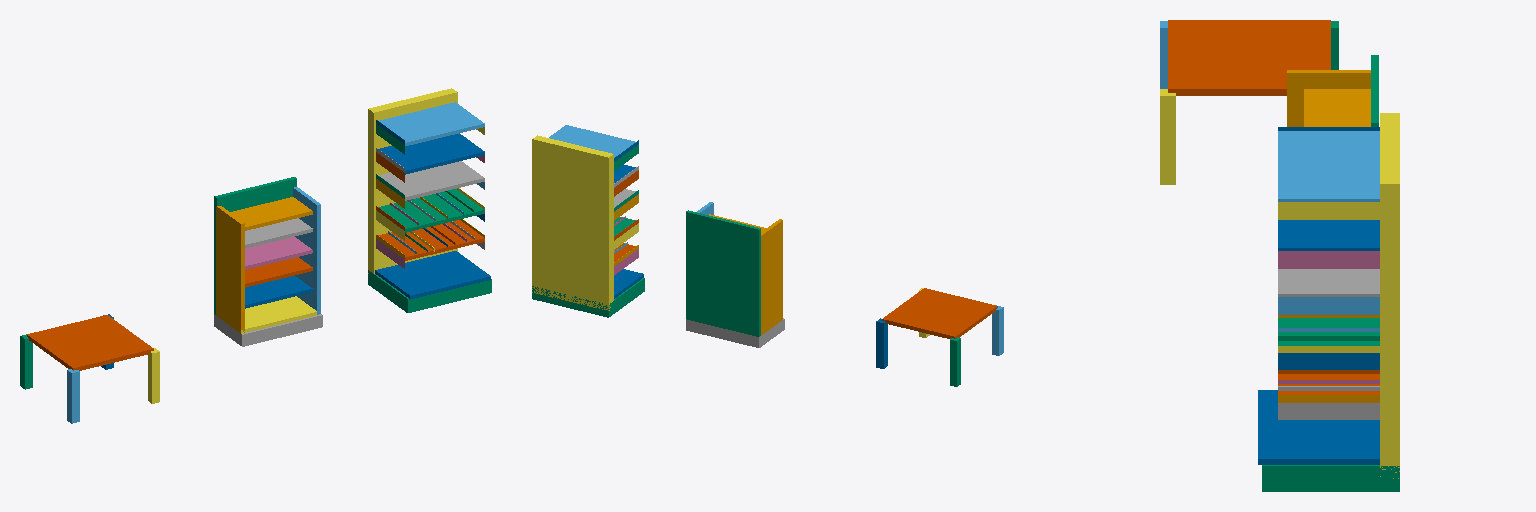
--- What the picture shows (computed from the rendered views, not written in the file) ---
Views: 3 orthographic renders of the robot side by side, from view 1: azimuth 30°, elevation 25°; view 2: azimuth 150°, elevation 25°; view 3: azimuth 270°, elevation 25°.
Model dm_shelves with 86 links and 85 joints (85 fixed), rooted at room_link, posed every joint at zero.
Visible links, largest first — view 1: top, shelf_1_back, shelf_2_left_side, shelf_1_level_0_link, shelf_1_level_5_link, shelf_1_level_4_link, shelf_1_level_3_link, shelf_1_level_2_link, shelf_2_right_side, shelf_1_base, shelf_1_level_1_link, shelf_2_back (+10 smaller); view 2: shelf_1_back, shelf_2_back, top, shelf_2_left_side, shelf_1_level_5_link, shelf_1_base, shelf_2_base, right_back_leg, left_front_leg, right_front_leg; view 3: top, shelf_1_level_5_link, shelf_1_back, shelf_1_level_0_link, shelf_1_base, shelf_1_level_4_link, shelf_1_level_3_link, shelf_2_level_5_link, shelf_2_left_side, shelf_1_level_2_link, shelf_1_level_3_right_support_link, shelf_1_level_4_right_support_link (+9 smaller).
Link boxes in pixels (x1,y1,x2,y2): top: (27,315,153,370); shelf_1_back: (368,88,457,273); shelf_2_left_side: (216,206,244,333); shelf_1_level_0_link: (375,251,490,299); shelf_1_level_5_link: (379,102,484,145); shelf_1_level_4_link: (379,133,484,174); shelf_1_level_3_link: (378,161,484,200); shelf_1_level_2_link: (379,189,484,232); shelf_2_right_side: (293,187,320,314); shelf_1_base: (368,270,491,312); shelf_1_level_1_link: (378,220,484,260); shelf_2_back: (214,177,296,314); shelf_1_back: (532,135,613,310); shelf_2_back: (686,210,760,336); top: (882,288,997,338); shelf_2_left_side: (761,219,782,335); shelf_1_level_5_link: (549,125,635,157); shelf_1_base: (532,278,644,317); shelf_2_base: (686,318,784,347); right_back_leg: (876,318,887,368); left_front_leg: (992,305,1003,355); right_front_leg: (950,337,960,386); top: (1168,20,1330,95); shelf_1_level_5_link: (1278,131,1379,201); shelf_1_back: (1380,113,1399,478); shelf_1_level_0_link: (1258,390,1379,464); shelf_1_base: (1262,465,1399,491); shelf_1_level_4_link: (1278,220,1379,250); shelf_1_level_3_link: (1278,269,1379,296); shelf_2_level_5_link: (1304,89,1370,126); shelf_2_left_side: (1287,70,1370,126); shelf_1_level_2_link: (1278,318,1379,345); shelf_1_level_3_right_support_link: (1278,297,1379,314); shelf_1_level_4_right_support_link: (1278,251,1379,268).
Bounding box of the posed robot: 5.57 × 1.48 × 2.09 m (x, y, z).
Geometry: primitives only (box / cylinder / sphere), no mesh files.

The robot description file, URDF, robot "dm_shelves":
<?xml version="1.0" ?>
<!-- =================================================================================== -->
<!-- |    This document was autogenerated by xacro from dm_shelves.urdf.xacro          | -->
<!-- |    EDITING THIS FILE BY HAND IS NOT RECOMMENDED                                 | -->
<!-- =================================================================================== -->
<robot name="dm_shelves" xmlns:xacro="http://ros.org/wiki/xacro">
  <link name="room_link"/>
  <link name="shelf_1_footprint"/>
  <joint name="romm_shleve_1_joint" type="fixed">
    <origin xyz="1 1 0.08515"/>
    <parent link="room_link"/>
    <child link="shelf_1_footprint"/>
  </joint>
  <link name="shelf_1_base">
    <visual>
      <geometry>
        <box size="1.04 0.85 0.173"/>
      </geometry>
    </visual>
    <collision>
      <geometry>
        <box size="1.04 0.85 0.173"/>
      </geometry>
    </collision>
  </link>
  <joint name="foot_base_joint" type="fixed">
    <iorigin xyz="0 0 0"/>
    <parent link="shelf_1_footprint"/>
    <child link="shelf_1_base"/>
  </joint>
  <link name="shelf_1_back">
    <visual>
      <geometry>
        <box size="1.04 0.12 2"/>
      </geometry>
    </visual>
    <collision>
      <geometry>
        <box size="1.04 0.12 2"/>
      </geometry>
    </collision>
  </link>
  <joint name="foot_back_joint" type="fixed">
    <origin xyz="0 0.365 1"/>
    <parent link="shelf_1_footprint"/>
    <child link="shelf_1_back"/>
  </joint>
  <link name="shelf_1_level_0_link">
    <visual>
      <geometry>
        <box size="1 0.78 0.043"/>
      </geometry>
    </visual>
    <collision>
      <geometry>
        <box size="1 0.78 0.043"/>
      </geometry>
    </collision>
  </link>
  <joint name="shelf_1_level_0_joint" type="fixed">
    <origin xyz="0 -0.06 0.10665"/>
    <parent link="shelf_1_footprint"/>
    <child link="shelf_1_level_0_link"/>
  </joint>
  <link name="shelf_1_level_1_link">
    <visual>
      <geometry>
        <box size="0.988 0.65 0.043"/>
      </geometry>
    </visual>
    <collision>
      <geometry>
        <box size="0.988 0.65 0.043"/>
      </geometry>
    </collision>
  </link>
  <link name="shelf_1_level_1_left_support_link">
    <visual>
      <geometry>
        <box size="0.004 0.65 0.12"/>
      </geometry>
    </visual>
    <collision>
      <geometry>
        <box size="0.004 0.65 0.12"/>
      </geometry>
    </collision>
  </link>
  <link name="shelf_1_level_1_right_support_link">
    <visual>
      <geometry>
        <box size="0.004 0.65 0.12"/>
      </geometry>
    </visual>
    <collision>
      <geometry>
        <box size="0.004 0.65 0.12"/>
      </geometry>
    </collision>
  </link>
  <joint name="shelf_1_level_1_joint" type="fixed">
    <origin xyz="0 0 0.50965"/>
    <parent link="shelf_1_footprint"/>
    <child link="shelf_1_level_1_link"/>
  </joint>
  <joint name="shelf_1_level_1_right_support_joint" type="fixed">
    <origin xyz="0.494 0 -0.06"/>
    <parent link="shelf_1_level_1_link"/>
    <child link="shelf_1_level_1_right_support_link"/>
  </joint>
  <joint name="shelf_1_level_1_left_support_joint" type="fixed">
    <origin xyz="-0.494 0 -0.06"/>
    <parent link="shelf_1_level_1_link"/>
    <child link="shelf_1_level_1_left_support_link"/>
  </joint>
  <link name="shelf_1_level_1_divider_1_link">
    <visual>
      <geometry>
        <box size="0.004 0.65 0.05"/>
      </geometry>
    </visual>
    <collision>
      <geometry>
        <box size="0.004 0.65 0.05"/>
      </geometry>
    </collision>
  </link>
  <joint name="shelf_1_level_1_divider_1_joint" type="fixed">
    <origin xyz="-0.495 0 0.024"/>
    <parent link="shelf_1_level_1_link"/>
    <child link="shelf_1_level_1_divider_1_link"/>
  </joint>
  <link name="shelf_1_level_1_divider_2_link">
    <visual>
      <geometry>
        <box size="0.004 0.65 0.05"/>
      </geometry>
    </visual>
    <collision>
      <geometry>
        <box size="0.004 0.65 0.05"/>
      </geometry>
    </collision>
  </link>
  <joint name="shelf_1_level_1_divider_2_joint" type="fixed">
    <origin xyz="-0.345 0 0.024"/>
    <parent link="shelf_1_level_1_link"/>
    <child link="shelf_1_level_1_divider_2_link"/>
  </joint>
  <link name="shelf_1_level_1_divider_3_link">
    <visual>
      <geometry>
        <box size="0.004 0.65 0.05"/>
      </geometry>
    </visual>
    <collision>
      <geometry>
        <box size="0.004 0.65 0.05"/>
      </geometry>
    </collision>
  </link>
  <joint name="shelf_1_level_1_divider_3_joint" type="fixed">
    <origin xyz="-0.212 0 0.024"/>
    <parent link="shelf_1_level_1_link"/>
    <child link="shelf_1_level_1_divider_3_link"/>
  </joint>
  <link name="shelf_1_level_1_divider_4_link">
    <visual>
      <geometry>
        <box size="0.004 0.65 0.05"/>
      </geometry>
    </visual>
    <collision>
      <geometry>
        <box size="0.004 0.65 0.05"/>
      </geometry>
    </collision>
  </link>
  <joint name="shelf_1_level_1_divider_4_joint" type="fixed">
    <origin xyz="-0.13 0 0.024"/>
    <parent link="shelf_1_level_1_link"/>
    <child link="shelf_1_level_1_divider_4_link"/>
  </joint>
  <link name="shelf_1_level_1_divider_5_link">
    <visual>
      <geometry>
        <box size="0.004 0.65 0.05"/>
      </geometry>
    </visual>
    <collision>
      <geometry>
        <box size="0.004 0.65 0.05"/>
      </geometry>
    </collision>
  </link>
  <joint name="shelf_1_level_1_divider_5_joint" type="fixed">
    <origin xyz="0.037 0 0.024"/>
    <parent link="shelf_1_level_1_link"/>
    <child link="shelf_1_level_1_divider_5_link"/>
  </joint>
  <link name="shelf_1_level_1_divider_6_link">
    <visual>
      <geometry>
        <box size="0.004 0.65 0.05"/>
      </geometry>
    </visual>
    <collision>
      <geometry>
        <box size="0.004 0.65 0.05"/>
      </geometry>
    </collision>
  </link>
  <joint name="shelf_1_level_1_divider_6_joint" type="fixed">
    <origin xyz="0.132 0 0.024"/>
    <parent link="shelf_1_level_1_link"/>
    <child link="shelf_1_level_1_divider_6_link"/>
  </joint>
  <link name="shelf_1_level_1_divider_7_link">
    <visual>
      <geometry>
        <box size="0.004 0.65 0.05"/>
      </geometry>
    </visual>
    <collision>
      <geometry>
        <box size="0.004 0.65 0.05"/>
      </geometry>
    </collision>
  </link>
  <joint name="shelf_1_level_1_divider_7_joint" type="fixed">
    <origin xyz="0.28 0 0.024"/>
    <parent link="shelf_1_level_1_link"/>
    <child link="shelf_1_level_1_divider_7_link"/>
  </joint>
  <link name="shelf_1_level_1_divider_8_link">
    <visual>
      <geometry>
        <box size="0.004 0.65 0.05"/>
      </geometry>
    </visual>
    <collision>
      <geometry>
        <box size="0.004 0.65 0.05"/>
      </geometry>
    </collision>
  </link>
  <joint name="shelf_1_level_1_divider_8_joint" type="fixed">
    <origin xyz="0.375 0 0.024"/>
    <parent link="shelf_1_level_1_link"/>
    <child link="shelf_1_level_1_divider_8_link"/>
  </joint>
  <link name="shelf_1_level_1_divider_9_link">
    <visual>
      <geometry>
        <box size="0.004 0.65 0.05"/>
      </geometry>
    </visual>
    <collision>
      <geometry>
        <box size="0.004 0.65 0.05"/>
      </geometry>
    </collision>
  </link>
  <joint name="shelf_1_level_1_divider_9_joint" type="fixed">
    <origin xyz="0.5 0 0.024"/>
    <parent link="shelf_1_level_1_link"/>
    <child link="shelf_1_level_1_divider_9_link"/>
  </joint>
  <link name="shelf_1_level_1_divider_10_link">
    <visual>
      <geometry>
        <box size="0.004 0.65 0.05"/>
      </geometry>
    </visual>
    <collision>
      <geometry>
        <box size="0.004 0.65 0.05"/>
      </geometry>
    </collision>
  </link>
  <joint name="shelf_1_level_1_divider_10_joint" type="fixed">
    <origin xyz="0.5 0 0.024"/>
    <parent link="shelf_1_level_1_link"/>
    <child link="shelf_1_level_1_divider_10_link"/>
  </joint>
  <link name="shelf_1_level_2_link">
    <visual>
      <geometry>
        <box size="0.988 0.65 0.043"/>
      </geometry>
    </visual>
    <collision>
      <geometry>
        <box size="0.988 0.65 0.043"/>
      </geometry>
    </collision>
  </link>
  <link name="shelf_1_level_2_left_support_link">
    <visual>
      <geometry>
        <box size="0.004 0.65 0.12"/>
      </geometry>
    </visual>
    <collision>
      <geometry>
        <box size="0.004 0.65 0.12"/>
      </geometry>
    </collision>
  </link>
  <link name="shelf_1_level_2_right_support_link">
    <visual>
      <geometry>
        <box size="0.004 0.65 0.12"/>
      </geometry>
    </visual>
    <collision>
      <geometry>
        <box size="0.004 0.65 0.12"/>
      </geometry>
    </collision>
  </link>
  <joint name="shelf_1_level_2_joint" type="fixed">
    <origin xyz="0 0 0.84465"/>
    <parent link="shelf_1_footprint"/>
    <child link="shelf_1_level_2_link"/>
  </joint>
  <joint name="shelf_1_level_2_right_support_joint" type="fixed">
    <origin xyz="0.494 0 -0.06"/>
    <parent link="shelf_1_level_2_link"/>
    <child link="shelf_1_level_2_right_support_link"/>
  </joint>
  <joint name="shelf_1_level_2_left_support_joint" type="fixed">
    <origin xyz="-0.494 0 -0.06"/>
    <parent link="shelf_1_level_2_link"/>
    <child link="shelf_1_level_2_left_support_link"/>
  </joint>
  <link name="shelf_1_level_2_divider_1_link">
    <visual>
      <geometry>
        <box size="0.004 0.65 0.05"/>
      </geometry>
    </visual>
    <collision>
      <geometry>
        <box size="0.004 0.65 0.05"/>
      </geometry>
    </collision>
  </link>
  <joint name="shelf_1_level_2_divider_1_joint" type="fixed">
    <origin xyz="-0.495 0 0.024"/>
    <parent link="shelf_1_level_2_link"/>
    <child link="shelf_1_level_2_divider_1_link"/>
  </joint>
  <link name="shelf_1_level_2_divider_2_link">
    <visual>
      <geometry>
        <box size="0.004 0.65 0.05"/>
      </geometry>
    </visual>
    <collision>
      <geometry>
        <box size="0.004 0.65 0.05"/>
      </geometry>
    </collision>
  </link>
  <joint name="shelf_1_level_2_divider_2_joint" type="fixed">
    <origin xyz="-0.318 0 0.024"/>
    <parent link="shelf_1_level_2_link"/>
    <child link="shelf_1_level_2_divider_2_link"/>
  </joint>
  <link name="shelf_1_level_2_divider_3_link">
    <visual>
      <geometry>
        <box size="0.004 0.65 0.05"/>
      </geometry>
    </visual>
    <collision>
      <geometry>
        <box size="0.004 0.65 0.05"/>
      </geometry>
    </collision>
  </link>
  <joint name="shelf_1_level_2_divider_3_joint" type="fixed">
    <origin xyz="-0.11 0 0.024"/>
    <parent link="shelf_1_level_2_link"/>
    <child link="shelf_1_level_2_divider_3_link"/>
  </joint>
  <link name="shelf_1_level_2_divider_4_link">
    <visual>
      <geometry>
        <box size="0.004 0.65 0.05"/>
      </geometry>
    </visual>
    <collision>
      <geometry>
        <box size="0.004 0.65 0.05"/>
      </geometry>
    </collision>
  </link>
  <joint name="shelf_1_level_2_divider_4_joint" type="fixed">
    <origin xyz="0.037 0 0.024"/>
    <parent link="shelf_1_level_2_link"/>
    <child link="shelf_1_level_2_divider_4_link"/>
  </joint>
  <link name="shelf_1_level_2_divider_5_link">
    <visual>
      <geometry>
        <box size="0.004 0.65 0.05"/>
      </geometry>
    </visual>
    <collision>
      <geometry>
        <box size="0.004 0.65 0.05"/>
      </geometry>
    </collision>
  </link>
  <joint name="shelf_1_level_2_divider_5_joint" type="fixed">
    <origin xyz="0.237 0 0.024"/>
    <parent link="shelf_1_level_2_link"/>
    <child link="shelf_1_level_2_divider_5_link"/>
  </joint>
  <link name="shelf_1_level_2_divider_6_link">
    <visual>
      <geometry>
        <box size="0.004 0.65 0.05"/>
      </geometry>
    </visual>
    <collision>
      <geometry>
        <box size="0.004 0.65 0.05"/>
      </geometry>
    </collision>
  </link>
  <joint name="shelf_1_level_2_divider_6_joint" type="fixed">
    <origin xyz="0.361 0 0.024"/>
    <parent link="shelf_1_level_2_link"/>
    <child link="shelf_1_level_2_divider_6_link"/>
  </joint>
  <link name="shelf_1_level_2_divider_7_link">
    <visual>
      <geometry>
        <box size="0.004 0.65 0.05"/>
      </geometry>
    </visual>
    <collision>
      <geometry>
        <box size="0.004 0.65 0.05"/>
      </geometry>
    </collision>
  </link>
  <joint name="shelf_1_level_2_divider_7_joint" type="fixed">
    <origin xyz="0.501 0 0.024"/>
    <parent link="shelf_1_level_2_link"/>
    <child link="shelf_1_level_2_divider_7_link"/>
  </joint>
  <link name="shelf_1_level_2_divider_8_link">
    <visual>
      <geometry>
        <box size="0.004 0.65 0.05"/>
      </geometry>
    </visual>
    <collision>
      <geometry>
        <box size="0.004 0.65 0.05"/>
      </geometry>
    </collision>
  </link>
  <joint name="shelf_1_level_2_divider_8_joint" type="fixed">
    <origin xyz="0.501 0 0.024"/>
    <parent link="shelf_1_level_2_link"/>
    <child link="shelf_1_level_2_divider_8_link"/>
  </joint>
  <link name="shelf_1_level_2_divider_9_link">
    <visual>
      <geometry>
        <box size="0.004 0.65 0.05"/>
      </geometry>
    </visual>
    <collision>
      <geometry>
        <box size="0.004 0.65 0.05"/>
      </geometry>
    </collision>
  </link>
  <joint name="shelf_1_level_2_divider_9_joint" type="fixed">
    <origin xyz="0.501 0 0.024"/>
    <parent link="shelf_1_level_2_link"/>
    <child link="shelf_1_level_2_divider_9_link"/>
  </joint>
  <link name="shelf_1_level_2_divider_10_link">
    <visual>
      <geometry>
        <box size="0.004 0.65 0.05"/>
      </geometry>
    </visual>
    <collision>
      <geometry>
        <box size="0.004 0.65 0.05"/>
      </geometry>
    </collision>
  </link>
  <joint name="shelf_1_level_2_divider_10_joint" type="fixed">
    <origin xyz="0.501 0 0.024"/>
    <parent link="shelf_1_level_2_link"/>
    <child link="shelf_1_level_2_divider_10_link"/>
  </joint>
  <link name="shelf_1_level_3_link">
    <visual>
      <geometry>
        <box size="0.988 0.65 0.043"/>
      </geometry>
    </visual>
    <collision>
      <geometry>
        <box size="0.988 0.65 0.043"/>
      </geometry>
    </collision>
  </link>
  <link name="shelf_1_level_3_left_support_link">
    <visual>
      <geometry>
        <box size="0.004 0.65 0.12"/>
      </geometry>
    </visual>
    <collision>
      <geometry>
        <box size="0.004 0.65 0.12"/>
      </geometry>
    </collision>
  </link>
  <link name="shelf_1_level_3_right_support_link">
    <visual>
      <geometry>
        <box size="0.004 0.65 0.12"/>
      </geometry>
    </visual>
    <collision>
      <geometry>
        <box size="0.004 0.65 0.12"/>
      </geometry>
    </collision>
  </link>
  <joint name="shelf_1_level_3_joint" type="fixed">
    <origin xyz="0 0 1.22265"/>
    <parent link="shelf_1_footprint"/>
    <child link="shelf_1_level_3_link"/>
  </joint>
  <joint name="shelf_1_level_3_right_support_joint" type="fixed">
    <origin xyz="0.494 0 -0.06"/>
    <parent link="shelf_1_level_3_link"/>
    <child link="shelf_1_level_3_right_support_link"/>
  </joint>
  <joint name="shelf_1_level_3_left_support_joint" type="fixed">
    <origin xyz="-0.494 0 -0.06"/>
    <parent link="shelf_1_level_3_link"/>
    <child link="shelf_1_level_3_left_support_link"/>
  </joint>
  <link name="shelf_1_level_3_divider_1_link">
    <visual>
      <geometry>
        <box size="0.004 0.65 0.05"/>
      </geometry>
    </visual>
    <collision>
      <geometry>
        <box size="0.004 0.65 0.05"/>
      </geometry>
    </collision>
  </link>
  <joint name="shelf_1_level_3_divider_1_joint" type="fixed">
    <origin xyz="-0.495 0 0.024"/>
    <parent link="shelf_1_level_3_link"/>
    <child link="shelf_1_level_3_divider_1_link"/>
  </joint>
  <link name="shelf_1_level_3_divider_2_link">
    <visual>
      <geometry>
        <box size="0.004 0.65 0.05"/>
      </geometry>
    </visual>
    <collision>
      <geometry>
        <box size="0.004 0.65 0.05"/>
      </geometry>
    </collision>
  </link>
  <joint name="shelf_1_level_3_divider_2_joint" type="fixed">
    <origin xyz="-0.495 0 0.024"/>
    <parent link="shelf_1_level_3_link"/>
    <child link="shelf_1_level_3_divider_2_link"/>
  </joint>
  <link name="shelf_1_level_3_divider_3_link">
    <visual>
      <geometry>
        <box size="0.004 0.65 0.05"/>
      </geometry>
    </visual>
    <collision>
      <geometry>
        <box size="0.004 0.65 0.05"/>
      </geometry>
    </collision>
  </link>
  <joint name="shelf_1_level_3_divider_3_joint" type="fixed">
    <origin xyz="-0.495 0 0.024"/>
    <parent link="shelf_1_level_3_link"/>
    <child link="shelf_1_level_3_divider_3_link"/>
  </joint>
  <link name="shelf_1_level_3_divider_4_link">
    <visual>
      <geometry>
        <box size="0.004 0.65 0.05"/>
      </geometry>
    </visual>
    <collision>
      <geometry>
        <box size="0.004 0.65 0.05"/>
      </geometry>
    </collision>
  </link>
  <joint name="shelf_1_level_3_divider_4_joint" type="fixed">
    <origin xyz="-0.495 0 0.024"/>
    <parent link="shelf_1_level_3_link"/>
    <child link="shelf_1_level_3_divider_4_link"/>
  </joint>
  <link name="shelf_1_level_3_divider_5_link">
    <visual>
      <geometry>
        <box size="0.004 0.65 0.05"/>
      </geometry>
    </visual>
    <collision>
      <geometry>
        <box size="0.004 0.65 0.05"/>
      </geometry>
    </collision>
  </link>
  <joint name="shelf_1_level_3_divider_5_joint" type="fixed">
    <origin xyz="-0.495 0 0.024"/>
    <parent link="shelf_1_level_3_link"/>
    <child link="shelf_1_level_3_divider_5_link"/>
  </joint>
  <link name="shelf_1_level_3_divider_6_link">
    <visual>
      <geometry>
        <box size="0.004 0.65 0.05"/>
      </geometry>
    </visual>
    <collision>
      <geometry>
        <box size="0.004 0.65 0.05"/>
      </geometry>
    </collision>
  </link>
  <joint name="shelf_1_level_3_divider_6_joint" type="fixed">
    <origin xyz="-0.495 0 0.024"/>
    <parent link="shelf_1_level_3_link"/>
    <child link="shelf_1_level_3_divider_6_link"/>
  </joint>
  <link name="shelf_1_level_3_divider_7_link">
    <visual>
      <geometry>
        <box size="0.004 0.65 0.05"/>
      </geometry>
    </visual>
    <collision>
      <geometry>
        <box size="0.004 0.65 0.05"/>
      </geometry>
    </collision>
  </link>
  <joint name="shelf_1_level_3_divider_7_joint" type="fixed">
    <origin xyz="-0.495 0 0.024"/>
    <parent link="shelf_1_level_3_link"/>
    <child link="shelf_1_level_3_divider_7_link"/>
  </joint>
  <link name="shelf_1_level_3_divider_8_link">
    <visual>
      <geometry>
        <box size="0.004 0.65 0.05"/>
      </geometry>
    </visual>
    <collision>
      <geometry>
        <box size="0.004 0.65 0.05"/>
      </geometry>
    </collision>
  </link>
  <joint name="shelf_1_level_3_divider_8_joint" type="fixed">
    <origin xyz="-0.495 0 0.024"/>
    <parent link="shelf_1_level_3_link"/>
    <child link="shelf_1_level_3_divider_8_link"/>
  </joint>
  <link name="shelf_1_level_3_divider_9_link">
    <visual>
      <geometry>
        <box size="0.004 0.65 0.05"/>
      </geometry>
    </visual>
    <collision>
      <geometry>
        <box size="0.004 0.65 0.05"/>
      </geometry>
    </collision>
  </link>
  <joint name="shelf_1_level_3_divider_9_joint" type="fixed">
    <origin xyz="-0.495 0 0.024"/>
    <parent link="shelf_1_level_3_link"/>
    <child link="shelf_1_level_3_divider_9_link"/>
  </joint>
  <link name="shelf_1_level_3_divider_10_link">
    <visual>
      <geometry>
        <box size="0.004 0.65 0.05"/>
      </geometry>
    </visual>
    <collision>
      <geometry>
        <box size="0.004 0.65 0.05"/>
      </geometry>
    </collision>
  </link>
  <joint name="shelf_1_level_3_divider_10_joint" type="fixed">
    <origin xyz="-0.495 0 0.024"/>
    <parent link="shelf_1_level_3_link"/>
    <child link="shelf_1_level_3_divider_10_link"/>
  </joint>
  <link name="shelf_1_level_4_link">
    <visual>
      <geometry>
        <box size="0.988 0.65 0.043"/>
      </geometry>
    </visual>
    <collision>
      <geometry>
        <box size="0.988 0.65 0.043"/>
      </geometry>
    </collision>
  </link>
  <link name="shelf_1_level_4_left_support_link">
    <visual>
      <geometry>
        <box size="0.004 0.65 0.12"/>
      </geometry>
    </visual>
    <collision>
      <geometry>
        <box size="0.004 0.65 0.12"/>
      </geometry>
    </collision>
  </link>
  <link name="shelf_1_level_4_right_support_link">
    <visual>
      <geometry>
        <box size="0.004 0.65 0.12"/>
      </geometry>
    </visual>
    <collision>
      <geometry>
        <box size="0.004 0.65 0.12"/>
      </geometry>
    </collision>
  </link>
  <joint name="shelf_1_level_4_joint" type="fixed">
    <origin xyz="0 0 1.53565"/>
    <parent link="shelf_1_footprint"/>
    <child link="shelf_1_level_4_link"/>
  </joint>
  <joint name="shelf_1_level_4_right_support_joint" type="fixed">
    <origin xyz="0.494 0 -0.06"/>
    <parent link="shelf_1_level_4_link"/>
    <child link="shelf_1_level_4_right_support_link"/>
  </joint>
  <joint name="shelf_1_level_4_left_support_joint" type="fixed">
    <origin xyz="-0.494 0 -0.06"/>
    <parent link="shelf_1_level_4_link"/>
    <child link="shelf_1_level_4_left_support_link"/>
  </joint>
  <link name="shelf_1_level_4_divider_1_link">
    <visual>
      <geometry>
        <box size="0.004 0.65 0.05"/>
      </geometry>
    </visual>
    <collision>
      <geometry>
        <box size="0.004 0.65 0.05"/>
      </geometry>
    </collision>
  </link>
  <joint name="shelf_1_level_4_divider_1_joint" type="fixed">
    <origin xyz="-0.495 0 0.024"/>
    <parent link="shelf_1_level_4_link"/>
    <child link="shelf_1_level_4_divider_1_link"/>
  </joint>
  <link name="shelf_1_level_4_divider_2_link">
    <visual>
      <geometry>
        <box size="0.004 0.65 0.05"/>
      </geometry>
    </visual>
    <collision>
      <geometry>
        <box size="0.004 0.65 0.05"/>
      </geometry>
    </collision>
  </link>
  <joint name="shelf_1_level_4_divider_2_joint" type="fixed">
    <origin xyz="-0.495 0 0.024"/>
    <parent link="shelf_1_level_4_link"/>
    <child link="shelf_1_level_4_divider_2_link"/>
  </joint>
  <link name="shelf_1_level_4_divider_3_link">
    <visual>
      <geometry>
        <box size="0.004 0.65 0.05"/>
      </geometry>
    </visual>
    <collision>
      <geometry>
        <box size="0.004 0.65 0.05"/>
      </geometry>
    </collision>
  </link>
  <joint name="shelf_1_level_4_divider_3_joint" type="fixed">
    <origin xyz="-0.495 0 0.024"/>
    <parent link="shelf_1_level_4_link"/>
    <child link="shelf_1_level_4_divider_3_link"/>
  </joint>
  <link name="shelf_1_level_4_divider_4_link">
    <visual>
      <geometry>
        <box size="0.004 0.65 0.05"/>
      </geometry>
    </visual>
    <collision>
      <geometry>
        <box size="0.004 0.65 0.05"/>
      </geometry>
    </collision>
  </link>
  <joint name="shelf_1_level_4_divider_4_joint" type="fixed">
    <origin xyz="-0.495 0 0.024"/>
    <parent link="shelf_1_level_4_link"/>
    <child link="shelf_1_level_4_divider_4_link"/>
  </joint>
  <link name="shelf_1_level_4_divider_5_link">
    <visual>
      <geometry>
        <box size="0.004 0.65 0.05"/>
      </geometry>
    </visual>
    <collision>
      <geometry>
        <box size="0.004 0.65 0.05"/>
      </geometry>
    </collision>
  </link>
  <joint name="shelf_1_level_4_divider_5_joint" type="fixed">
    <origin xyz="-0.495 0 0.024"/>
    <parent link="shelf_1_level_4_link"/>
    <child link="shelf_1_level_4_divider_5_link"/>
  </joint>
  <link name="shelf_1_level_4_divider_6_link">
    <visual>
      <geometry>
        <box size="0.004 0.65 0.05"/>
      </geometry>
    </visual>
    <collision>
      <geometry>
        <box size="0.004 0.65 0.05"/>
      </geometry>
    </collision>
  </link>
  <joint name="shelf_1_level_4_divider_6_joint" type="fixed">
    <origin xyz="-0.495 0 0.024"/>
    <parent link="shelf_1_level_4_link"/>
    <child link="shelf_1_level_4_divider_6_link"/>
  </joint>
  <link name="shelf_1_level_4_divider_7_link">
    <visual>
      <geometry>
        <box size="0.004 0.65 0.05"/>
      </geometry>
    </visual>
    <collision>
      <geometry>
        <box size="0.004 0.65 0.05"/>
      </geometry>
    </collision>
  </link>
  <joint name="shelf_1_level_4_divider_7_joint" type="fixed">
    <origin xyz="-0.495 0 0.024"/>
    <parent link="shelf_1_level_4_link"/>
    <child link="shelf_1_level_4_divider_7_link"/>
  </joint>
  <link name="shelf_1_level_4_divider_8_link">
    <visual>
      <geometry>
        <box size="0.004 0.65 0.05"/>
      </geometry>
    </visual>
    <collision>
      <geometry>
        <box size="0.004 0.65 0.05"/>
      </geometry>
    </collision>
  </link>
  <joint name="shelf_1_level_4_divider_8_joint" type="fixed">
    <origin xyz="-0.495 0 0.024"/>
    <parent link="shelf_1_level_4_link"/>
    <child link="shelf_1_level_4_divider_8_link"/>
  </joint>
  <link name="shelf_1_level_4_divider_9_link">
    <visual>
      <geometry>
        <box size="0.004 0.65 0.05"/>
      </geometry>
    </visual>
    <collision>
      <geometry>
        <box size="0.004 0.65 0.05"/>
      </geometry>
    </collision>
  </link>
  <joint name="shelf_1_level_4_divider_9_joint" type="fixed">
    <origin xyz="-0.495 0 0.024"/>
    <parent link="shelf_1_level_4_link"/>
    <child link="shelf_1_level_4_divider_9_link"/>
  </joint>
  <link name="shelf_1_level_4_divider_10_link">
    <visual>
      <geometry>
        <box size="0.004 0.65 0.05"/>
      </geometry>
    </visual>
    <collision>
      <geometry>
        <box size="0.004 0.65 0.05"/>
      </geometry>
    </collision>
  </link>
  <joint name="shelf_1_level_4_divider_10_joint" type="fixed">
    <origin xyz="-0.495 0 0.024"/>
    <parent link="shelf_1_level_4_link"/>
    <child link="shelf_1_level_4_divider_10_link"/>
  </joint>
  <link name="shelf_1_level_5_link">
    <visual>
      <geometry>
        <box size="0.988 0.65 0.043"/>
      </geometry>
    </visual>
    <collision>
      <geometry>
        <box size="0.988 0.65 0.043"/>
      </geometry>
    </collision>
  </link>
  <link name="shelf_1_level_5_left_support_link">
    <visual>
      <geometry>
        <box size="0.004 0.65 0.12"/>
      </geometry>
    </visual>
    <collision>
      <geometry>
        <box size="0.004 0.65 0.12"/>
      </geometry>
    </collision>
  </link>
  <link name="shelf_1_level_5_right_support_link">
    <visual>
      <geometry>
        <box size="0.004 0.65 0.12"/>
      </geometry>
    </visual>
    <collision>
      <geometry>
        <box size="0.004 0.65 0.12"/>
      </geometry>
    </collision>
  </link>
  <joint name="shelf_1_level_5_joint" type="fixed">
    <origin xyz="0 0 1.86865"/>
    <parent link="shelf_1_footprint"/>
    <child link="shelf_1_level_5_link"/>
  </joint>
  <joint name="shelf_1_level_5_right_support_joint" type="fixed">
    <origin xyz="0.494 0 -0.06"/>
    <parent link="shelf_1_level_5_link"/>
    <child link="shelf_1_level_5_right_support_link"/>
  </joint>
  <joint name="shelf_1_level_5_left_support_joint" type="fixed">
    <origin xyz="-0.494 0 -0.06"/>
    <parent link="shelf_1_level_5_link"/>
    <child link="shelf_1_level_5_left_support_link"/>
  </joint>
  <link name="shelf_1_level_5_divider_1_link">
    <visual>
      <geometry>
        <box size="0.004 0.65 0.05"/>
      </geometry>
    </visual>
    <collision>
      <geometry>
        <box size="0.004 0.65 0.05"/>
      </geometry>
    </collision>
  </link>
  <joint name="shelf_1_level_5_divider_1_joint" type="fixed">
    <origin xyz="-0.495 0 0.024"/>
    <parent link="shelf_1_level_5_link"/>
    <child link="shelf_1_level_5_divider_1_link"/>
  </joint>
  <link name="shelf_1_level_5_divider_2_link">
    <visual>
      <geometry>
        <box size="0.004 0.65 0.05"/>
      </geometry>
    </visual>
    <collision>
      <geometry>
        <box size="0.004 0.65 0.05"/>
      </geometry>
    </collision>
  </link>
  <joint name="shelf_1_level_5_divider_2_joint" type="fixed">
    <origin xyz="-0.495 0 0.024"/>
    <parent link="shelf_1_level_5_link"/>
    <child link="shelf_1_level_5_divider_2_link"/>
  </joint>
  <link name="shelf_1_level_5_divider_3_link">
    <visual>
      <geometry>
        <box size="0.004 0.65 0.05"/>
      </geometry>
    </visual>
    <collision>
      <geometry>
        <box size="0.004 0.65 0.05"/>
      </geometry>
    </collision>
  </link>
  <joint name="shelf_1_level_5_divider_3_joint" type="fixed">
    <origin xyz="-0.495 0 0.024"/>
    <parent link="shelf_1_level_5_link"/>
    <child link="shelf_1_level_5_divider_3_link"/>
  </joint>
  <link name="shelf_1_level_5_divider_4_link">
    <visual>
      <geometry>
        <box size="0.004 0.65 0.05"/>
      </geometry>
    </visual>
    <collision>
      <geometry>
        <box size="0.004 0.65 0.05"/>
      </geometry>
    </collision>
  </link>
  <joint name="shelf_1_level_5_divider_4_joint" type="fixed">
    <origin xyz="-0.495 0 0.024"/>
    <parent link="shelf_1_level_5_link"/>
    <child link="shelf_1_level_5_divider_4_link"/>
  </joint>
  <link name="shelf_1_level_5_divider_5_link">
    <visual>
      <geometry>
        <box size="0.004 0.65 0.05"/>
      </geometry>
    </visual>
    <collision>
      <geometry>
        <box size="0.004 0.65 0.05"/>
      </geometry>
    </collision>
  </link>
  <joint name="shelf_1_level_5_divider_5_joint" type="fixed">
    <origin xyz="-0.495 0 0.024"/>
    <parent link="shelf_1_level_5_link"/>
    <child link="shelf_1_level_5_divider_5_link"/>
  </joint>
  <link name="shelf_1_level_5_divider_6_link">
    <visual>
      <geometry>
        <box size="0.004 0.65 0.05"/>
      </geometry>
    </visual>
    <collision>
      <geometry>
        <box size="0.004 0.65 0.05"/>
      </geometry>
    </collision>
  </link>
  <joint name="shelf_1_level_5_divider_6_joint" type="fixed">
    <origin xyz="-0.495 0 0.024"/>
    <parent link="shelf_1_level_5_link"/>
    <child link="shelf_1_level_5_divider_6_link"/>
  </joint>
  <link name="shelf_1_level_5_divider_7_link">
    <visual>
      <geometry>
        <box size="0.004 0.65 0.05"/>
      </geometry>
    </visual>
    <collision>
      <geometry>
        <box size="0.004 0.65 0.05"/>
      </geometry>
    </collision>
  </link>
  <joint name="shelf_1_level_5_divider_7_joint" type="fixed">
    <origin xyz="-0.495 0 0.024"/>
    <parent link="shelf_1_level_5_link"/>
    <child link="shelf_1_level_5_divider_7_link"/>
  </joint>
  <link name="shelf_1_level_5_divider_8_link">
    <visual>
      <geometry>
        <box size="0.004 0.65 0.05"/>
      </geometry>
    </visual>
    <collision>
      <geometry>
        <box size="0.004 0.65 0.05"/>
      </geometry>
    </collision>
  </link>
  <joint name="shelf_1_level_5_divider_8_joint" type="fixed">
    <origin xyz="-0.495 0 0.024"/>
    <parent link="shelf_1_level_5_link"/>
    <child link="shelf_1_level_5_divider_8_link"/>
  </joint>
  <link name="shelf_1_level_5_divider_9_link">
    <visual>
      <geometry>
        <box size="0.004 0.65 0.05"/>
      </geometry>
    </visual>
    <collision>
      <geometry>
        <box size="0.004 0.65 0.05"/>
      </geometry>
    </collision>
  </link>
  <joint name="shelf_1_level_5_divider_9_joint" type="fixed">
    <origin xyz="-0.495 0 0.024"/>
    <parent link="shelf_1_level_5_link"/>
    <child link="shelf_1_level_5_divider_9_link"/>
  </joint>
  <link name="shelf_1_level_5_divider_10_link">
    <visual>
      <geometry>
        <box size="0.004 0.65 0.05"/>
      </geometry>
    </visual>
    <collision>
      <geometry>
        <box size="0.004 0.65 0.05"/>
      </geometry>
    </collision>
  </link>
  <joint name="shelf_1_level_5_divider_10_joint" type="fixed">
    <origin xyz="-0.495 0 0.024"/>
    <parent link="shelf_1_level_5_link"/>
    <child link="shelf_1_level_5_divider_10_link"/>
  </joint>
  <link name="shelf_2_footprint"/>
  <joint name="romm_shleve_2_joint" type="fixed">
    <origin xyz="-1 1 0.08515"/>
    <parent link="room_link"/>
    <child link="shelf_2_footprint"/>
  </joint>
  <link name="shelf_2_base">
    <visual>
      <geometry>
        <box size="1 0.6 0.145"/>
      </geometry>
    </visual>
    <collision>
      <geometry>
        <box size="1 0.6 0.145"/>
      </geometry>
    </collision>
  </link>
  <joint name="shelf_2_foot_base_joint" type="fixed">
    <iorigin xyz="0 0 0"/>
    <parent link="shelf_2_footprint"/>
    <child link="shelf_2_base"/>
  </joint>
  <link name="shelf_2_left_side">
    <visual>
      <geometry>
        <box size="0.05 0.54 1.3"/>
      </geometry>
    </visual>
    <collision>
      <geometry>
        <box size="0.05 0.54 1.3"/>
      </geometry>
    </collision>
  </link>
  <joint name="shelf_2_foot_left_joint" type="fixed">
    <origin xyz="-0.475 0 0.7225"/>
    <parent link="shelf_2_footprint"/>
    <child link="shelf_2_left_side"/>
  </joint>
  <link name="shelf_2_right_side">
    <visual>
      <geometry>
        <box size="0.05 0.54 1.3"/>
      </geometry>
    </visual>
    <collision>
      <geometry>
        <box size="0.05 0.54 1.3"/>
      </geometry>
    </collision>
  </link>
  <joint name="shelf_2_foot_right_joint" type="fixed">
    <origin xyz="0.475 0 0.7225"/>
    <parent link="shelf_2_footprint"/>
    <child link="shelf_2_right_side"/>
  </joint>
  <link name="shelf_2_back">
    <visual>
      <geometry>
        <box size="1 0.05 1.4"/>
      </geometry>
    </visual>
    <collision>
      <geometry>
        <box size="1 0.05 1.4"/>
      </geometry>
    </collision>
  </link>
  <joint name="shelf_2_foot_back_joint" type="fixed">
    <origin xyz="0 0.275 0.7725"/>
    <parent link="shelf_2_footprint"/>
    <child link="shelf_2_back"/>
  </joint>
  <link name="shelf_2_level_0_link">
    <visual>
      <geometry>
        <box size="0.992 0.54 0.043"/>
      </geometry>
    </visual>
    <collision>
      <geometry>
        <box size="0.992 0.54 0.043"/>
      </geometry>
    </collision>
  </link>
  <joint name="shelf_2_level_0_joint" type="fixed">
    <origin xyz="0 0 0.0925"/>
    <parent link="shelf_2_footprint"/>
    <child link="shelf_2_level_0_link"/>
  </joint>
  <link name="shelf_2_level_1_link">
    <visual>
      <geometry>
        <box size="0.992 0.435 0.043"/>
      </geometry>
    </visual>
    <collision>
      <geometry>
        <box size="0.992 0.435 0.043"/>
      </geometry>
    </collision>
  </link>
  <joint name="shelf_2_level_1_joint" type="fixed">
    <origin xyz="0 0.05 0.324"/>
    <parent link="shelf_2_footprint"/>
    <child link="shelf_2_level_1_link"/>
  </joint>
  <link name="shelf_2_level_2_link">
    <visual>
      <geometry>
        <box size="0.992 0.435 0.043"/>
      </geometry>
    </visual>
    <collision>
      <geometry>
        <box size="0.992 0.435 0.043"/>
      </geometry>
    </collision>
  </link>
  <joint name="shelf_2_level_2_joint" type="fixed">
    <origin xyz="0 0.05 0.574"/>
    <parent link="shelf_2_footprint"/>
    <child link="shelf_2_level_2_link"/>
  </joint>
  <link name="shelf_2_level_3_link">
    <visual>
      <geometry>
        <box size="0.992 0.435 0.043"/>
      </geometry>
    </visual>
    <collision>
      <geometry>
        <box size="0.992 0.435 0.043"/>
      </geometry>
    </collision>
  </link>
  <joint name="shelf_2_level_3_joint" type="fixed">
    <origin xyz="0 0.05 0.784"/>
    <parent link="shelf_2_footprint"/>
    <child link="shelf_2_level_3_link"/>
  </joint>
  <link name="shelf_2_level_4_link">
    <visual>
      <geometry>
        <box size="0.992 0.435 0.043"/>
      </geometry>
    </visual>
    <collision>
      <geometry>
        <box size="0.992 0.435 0.043"/>
      </geometry>
    </collision>
  </link>
  <joint name="shelf_2_level_4_joint" type="fixed">
    <origin xyz="0 0.05 1.036"/>
    <parent link="shelf_2_footprint"/>
    <child link="shelf_2_level_4_link"/>
  </joint>
  <link name="shelf_2_level_5_link">
    <visual>
      <geometry>
        <box size="0.992 0.435 0.043"/>
      </geometry>
    </visual>
    <collision>
      <geometry>
        <box size="0.992 0.435 0.043"/>
      </geometry>
    </collision>
  </link>
  <joint name="shelf_2_level_5_joint" type="fixed">
    <origin xyz="0 0.05 1.245"/>
    <parent link="shelf_2_footprint"/>
    <child link="shelf_2_level_5_link"/>
</joint>


    <link name="left_front_leg">
        <collision>
            <origin xyz="0 0 0.3"/>
            <geometry>
                <box size="0.1 0.1 0.6"/>
            </geometry>
        </collision>
        <visual>
            <origin xyz="0 0 0.3"/>
            <geometry>
                <box size="0.1 0.1 0.6"/>
            </geometry>
        </visual>
    </link>
    

    <link name="right_front_leg">
        <collision>
            <origin xyz="0 0 0.3"/>
            <geometry>
                <box size="0.1 0.1 0.6"/>
            </geometry>
        </collision>
        <visual>
            <origin xyz="0 0 0.3"/>
            <geometry>
                <box size="0.1 0.1 0.6"/>
            </geometry>
        </visual>
    </link>


    <link name="left_back_leg">
        <collision>
            <origin xyz="0 0 0.3"/>
            <geometry>
                <box size="0.1 0.1 0.6"/>
            </geometry>
        </collision>
        <visual>
            <origin xyz="0 0 0.3"/>
            <geometry>
                <box size="0.1 0.1 0.6"/>
            </geometry>
        </visual>
    </link>


    <link name="right_back_leg">
        <collision>
            <origin xyz="0 0 0.3"/>
            <geometry>
                <box size="0.1 0.1 0.6"/>
            </geometry>
        </collision>
        <visual>
            <origin xyz="0 0 0.3"/>
            <geometry>
                <box size="0.1 0.1 0.6"/>
            </geometry>
        </visual>
    </link>


    <link name="top">
        <collision>
            <geometry>
                <box size="1 1 0.05"/>
            </geometry>
        </collision>
        <visual>
            <geometry>
                <box size="1 1 0.05"/>
            </geometry>
        </visual>
    </link>
    

    <joint name="origin_to_left_front_leg" type="fixed">
        <parent link="room_link"/>
        <child link="left_front_leg"/>
        <origin xyz="-4 0 0"/>
    </joint>

    <joint name="left_front_to_back" type="fixed">
        <parent link="left_front_leg"/>
        <child link="left_back_leg"/>
        <origin xyz="1 0 0"/>
    </joint>

    <joint name="left_front_to_right_front" type="fixed">
        <parent link="left_front_leg"/>
        <child link="right_front_leg"/>
        <origin xyz="0 1 0"/>
    </joint>

    <joint name="left_front_to_right_back" type="fixed">
        <parent link="left_front_leg"/>
        <child link="right_back_leg"/>
        <origin xyz="1 1 0"/>
    </joint>

    <joint name="left_front_leg_to_top" type="fixed">
        <parent link="left_front_leg"/>
        <child link="top"/>
        <origin xyz="0.5 0.5 0.6"/>
    </joint>




</robot>
